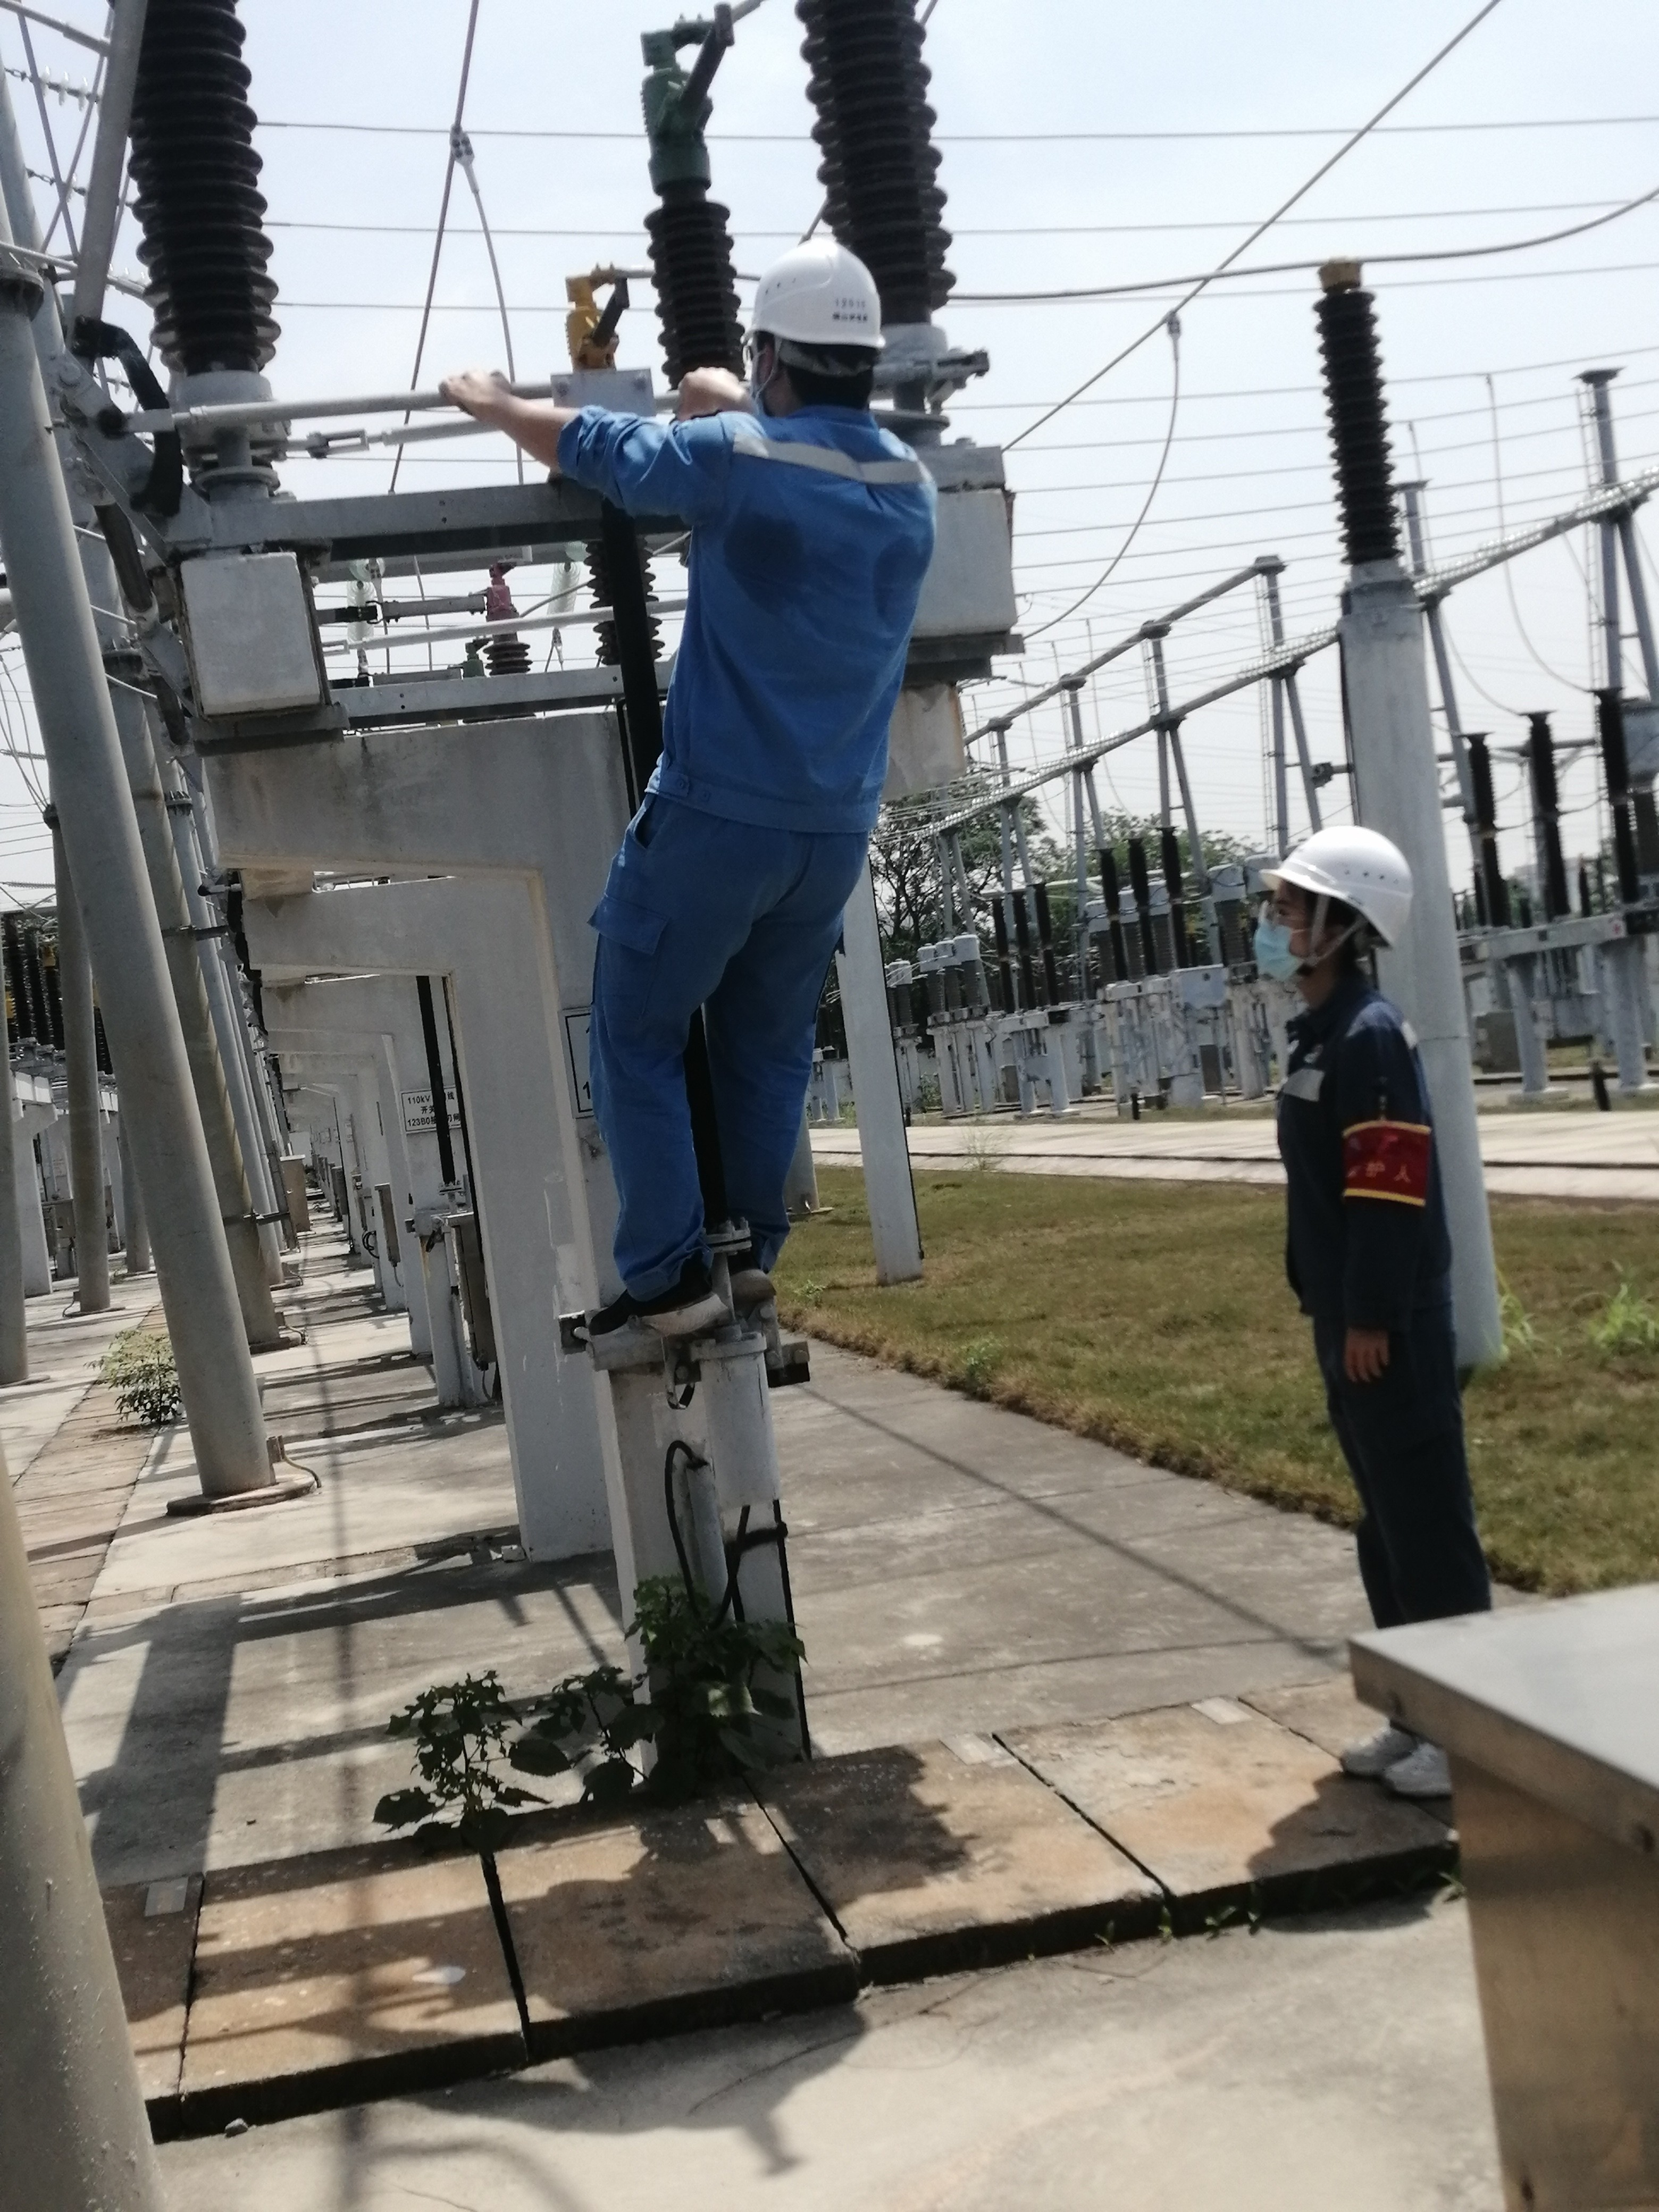downsuit: (579, 853, 870, 1282), (1323, 1346, 1499, 1662)
upsuit: (563, 399, 939, 824), (1274, 998, 1453, 1322)
wrongtop: (437, 364, 603, 488)
